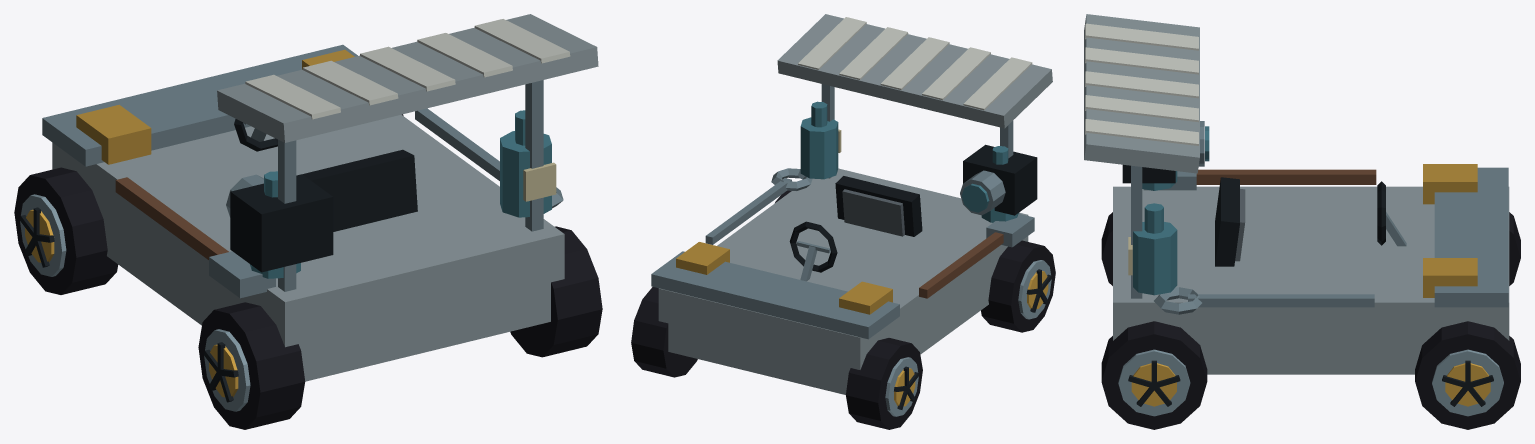
File: kart.glb
The picture shows the model from 3 angles, left to right: view 1: azimuth 30°, elevation 25°; view 2: azimuth 150°, elevation 25°; view 3: azimuth 270°, elevation 25°; orthographic projection. The views are drawn at different scales.
Parts seen in each view (by area): view 1: identity-food-cart-food-cart-counter-and-awning, wheel-rear-left, wheel-front-left, identity-food-cart-motif-camera, identity-food-cart-driver-cockpit, identity-food-cart-motif-tools, wheel-rear-right, identity-food-cart-motif-bottles; view 2: identity-food-cart-food-cart-counter-and-awning, wheel-front-left, identity-food-cart-driver-cockpit, wheel-rear-left, identity-food-cart-motif-camera, identity-food-cart-motif-tools, identity-food-cart-motif-bottles, wheel-front-right; view 3: identity-food-cart-food-cart-counter-and-awning, wheel-rear-right, wheel-front-right, identity-food-cart-motif-tools, identity-food-cart-motif-bottles, identity-food-cart-driver-cockpit, identity-food-cart-motif-camera, wheel-front-left, wheel-rear-left.
Part boxes in pixels (left/top/right/bottom): identity-food-cart-food-cart-counter-and-awning: left=42, top=14, right=598, bottom=381; wheel-rear-left: left=198, top=302, right=305, bottom=429; wheel-front-left: left=14, top=167, right=118, bottom=294; identity-food-cart-motif-camera: left=226, top=174, right=333, bottom=272; identity-food-cart-driver-cockpit: left=234, top=119, right=417, bottom=231; identity-food-cart-motif-tools: left=115, top=108, right=563, bottom=298; wheel-rear-right: left=510, top=226, right=602, bottom=357; identity-food-cart-motif-bottles: left=250, top=110, right=556, bottom=278; identity-food-cart-food-cart-counter-and-awning: left=651, top=14, right=1052, bottom=394; wheel-front-left: left=846, top=338, right=922, bottom=429; identity-food-cart-driver-cockpit: left=789, top=176, right=922, bottom=281; wheel-rear-left: left=981, top=240, right=1055, bottom=332; identity-food-cart-motif-camera: left=960, top=144, right=1037, bottom=215; identity-food-cart-motif-tools: left=705, top=168, right=1034, bottom=298; identity-food-cart-motif-bottles: left=800, top=101, right=1019, bottom=222; wheel-front-right: left=631, top=287, right=697, bottom=377; identity-food-cart-food-cart-counter-and-awning: left=1084, top=14, right=1509, bottom=374; wheel-rear-right: left=1101, top=321, right=1207, bottom=429; wheel-front-right: left=1415, top=321, right=1520, bottom=429; identity-food-cart-motif-tools: left=1143, top=169, right=1376, bottom=314; identity-food-cart-motif-bottles: left=1128, top=171, right=1177, bottom=295; identity-food-cart-driver-cockpit: left=1215, top=177, right=1406, bottom=266; identity-food-cart-motif-camera: left=1122, top=121, right=1209, bottom=183; wheel-front-left: left=1509, top=212, right=1520, bottom=285; wheel-rear-left: left=1101, top=212, right=1112, bottom=285.
Size of the model in its own units: 2.03 by 1.76 by 2.48.
